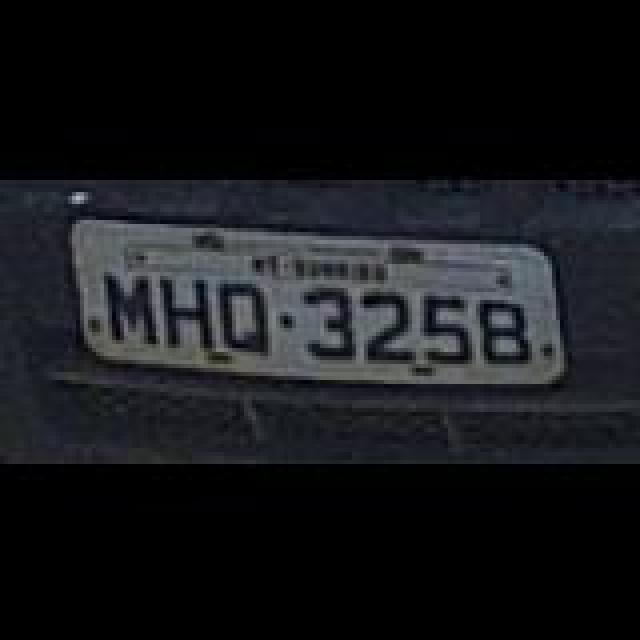2: (360, 288, 416, 360)
3: (304, 284, 360, 356)
5: (422, 294, 474, 362)
8: (474, 296, 534, 360)
H: (160, 276, 216, 348)
M: (104, 272, 160, 344)
Q: (216, 280, 272, 352)
